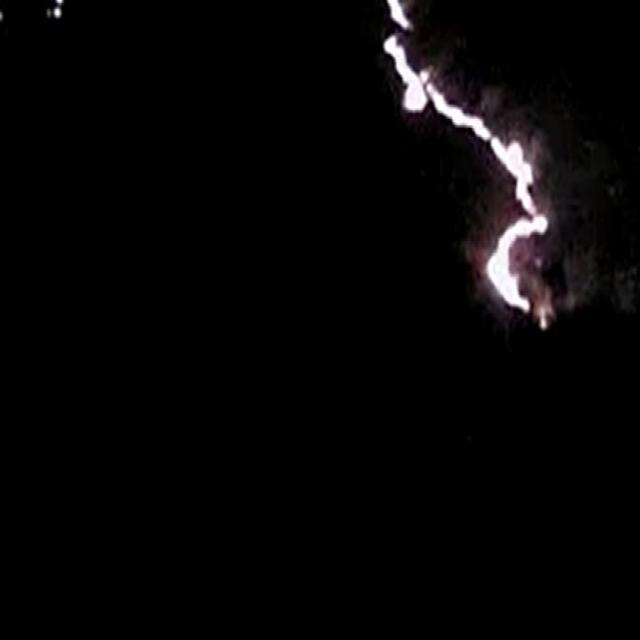Fire: (383, 0, 552, 331)
